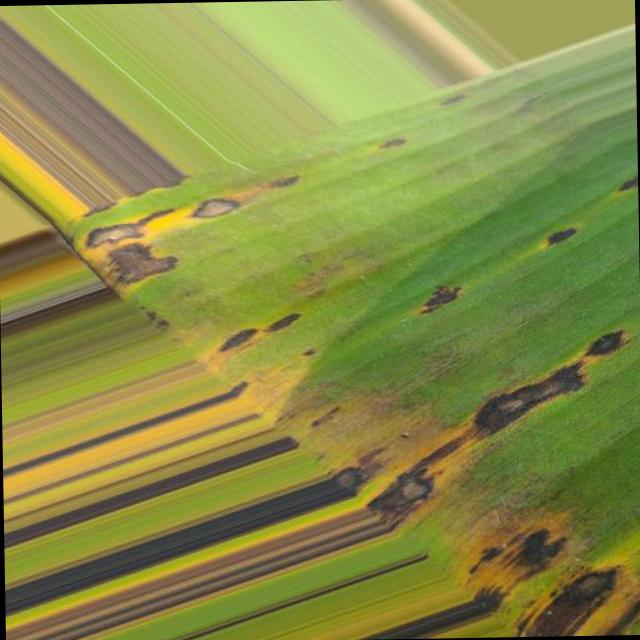Banana_Black_Sigatoka: (304, 390, 640, 636), (67, 166, 360, 386)
